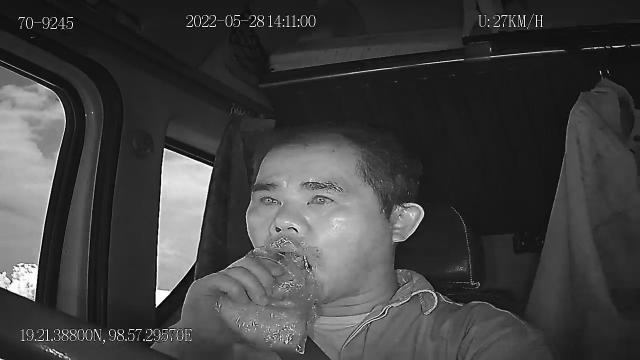SafeDriving: (299, 180, 344, 211), (250, 185, 286, 210)
Seatbelt: (274, 320, 334, 360)
